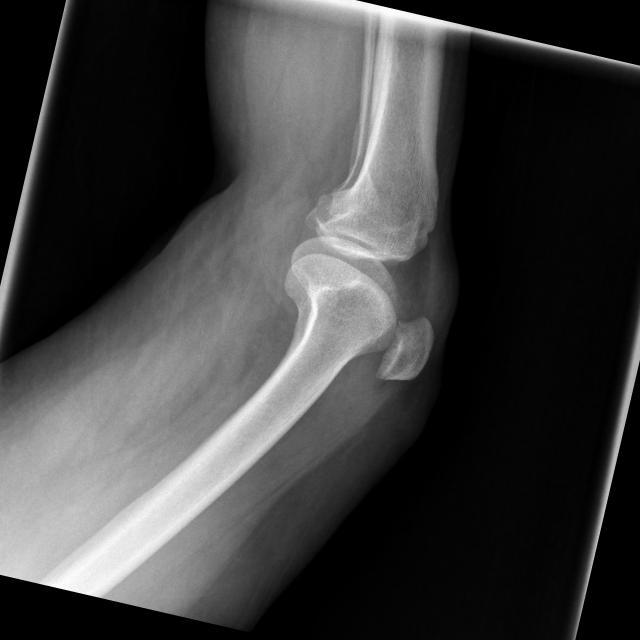Knee: (264, 155, 470, 394)
